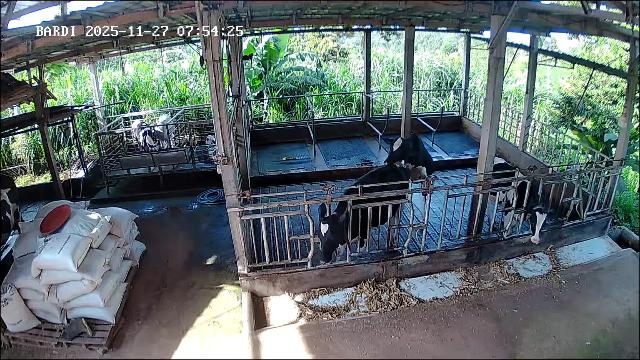mounting: (381, 133, 437, 223)
